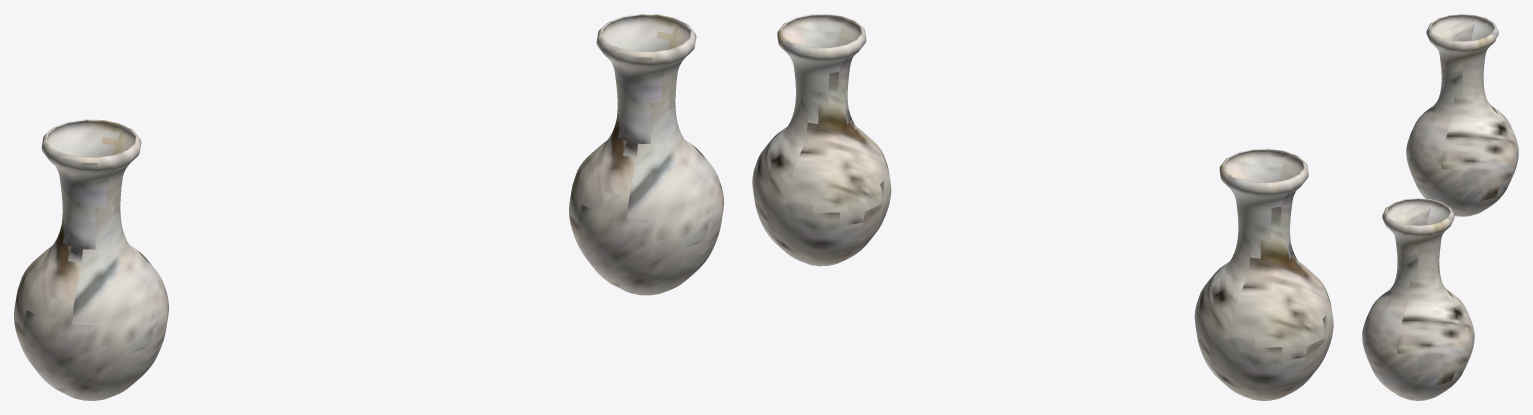
Rendered from lab_vase.fbx.
3 views of the same model, side by side, from view 1: azimuth 30°, elevation 25°; view 2: azimuth 150°, elevation 25°; view 3: azimuth 270°, elevation 25° (orthographic). The views are drawn at different scales.
Parts seen in each view (by area): view 1: Ваза2, Ваза; view 2: Ваза2, Ваза; view 3: Ваза, Ваза2.
Boxes of the visible parts, bbox=[...] form: Ваза2: bbox=[14, 119, 168, 400]; Ваза: bbox=[569, 14, 723, 295]; Ваза2: bbox=[1194, 148, 1333, 400]; Ваза: bbox=[752, 14, 891, 266]; Ваза: bbox=[1362, 198, 1474, 400]; Ваза2: bbox=[1406, 14, 1518, 216].
Bounding box in the file's own units: 352 × 129 × 100.
